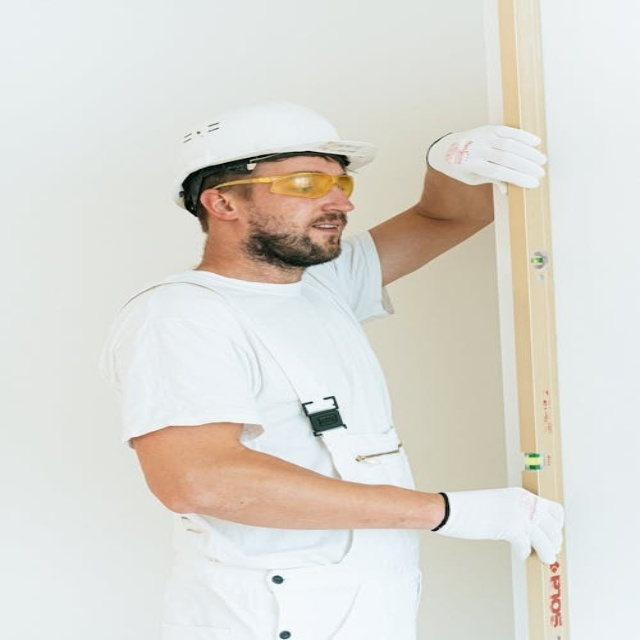Gafas: (209, 171, 357, 200)
Guantes: (431, 488, 566, 565), (427, 125, 547, 190)
Sin_mascara: (270, 215, 349, 258)
